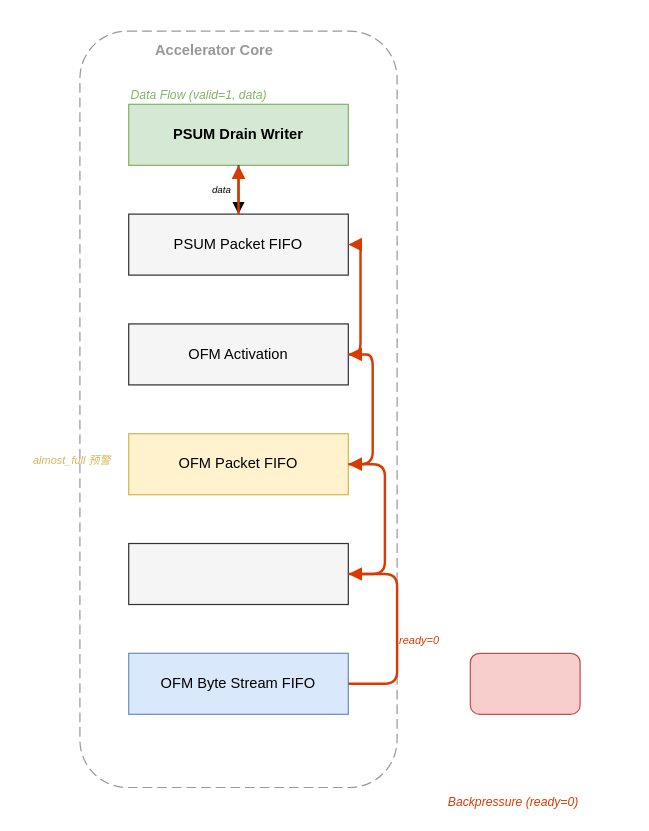
The diagram is 649 pixels wide and 831 high, and some of its shapes have lost their labels. Here are the shapes that lost their labels. From the top down, the centre of each, then its label:
[237,573]: OFM Writeback
[524,683]: AXI-Stream tready = 0
